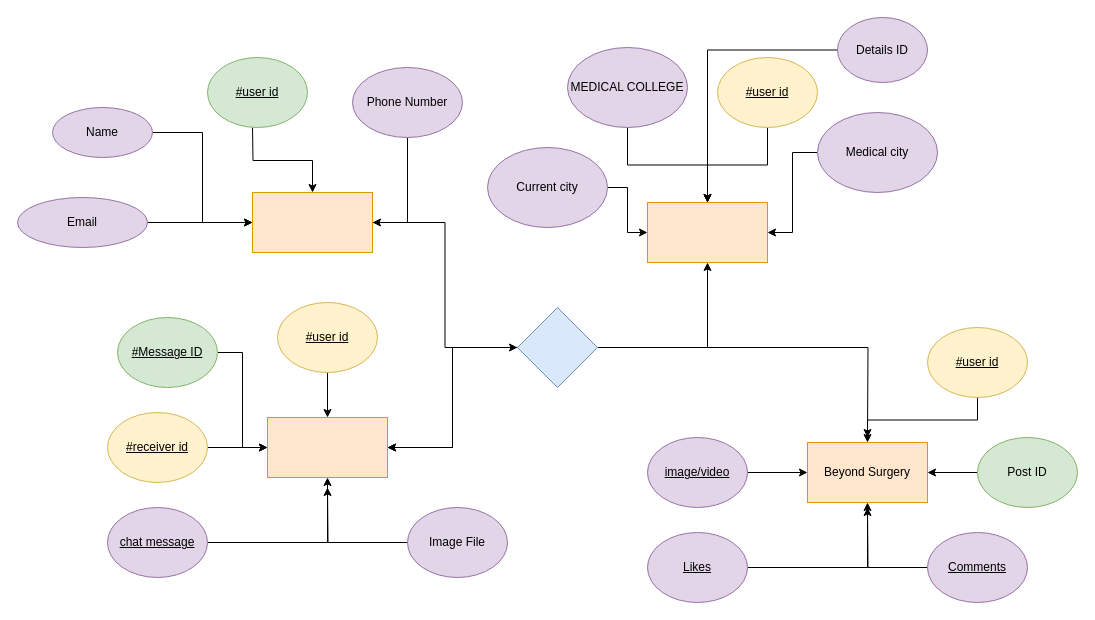
Image size: 1095x620. Some labels were removed from this diagram. The shapes that lost their labels are listed below. From the top down, each one's centre as x and y in pixels, then its label:
At point 312,222: "USER".
At point 707,232: "PERSONAL DETAILS".
At point 557,347: "HAS".
At point 327,447: "CHAT".
